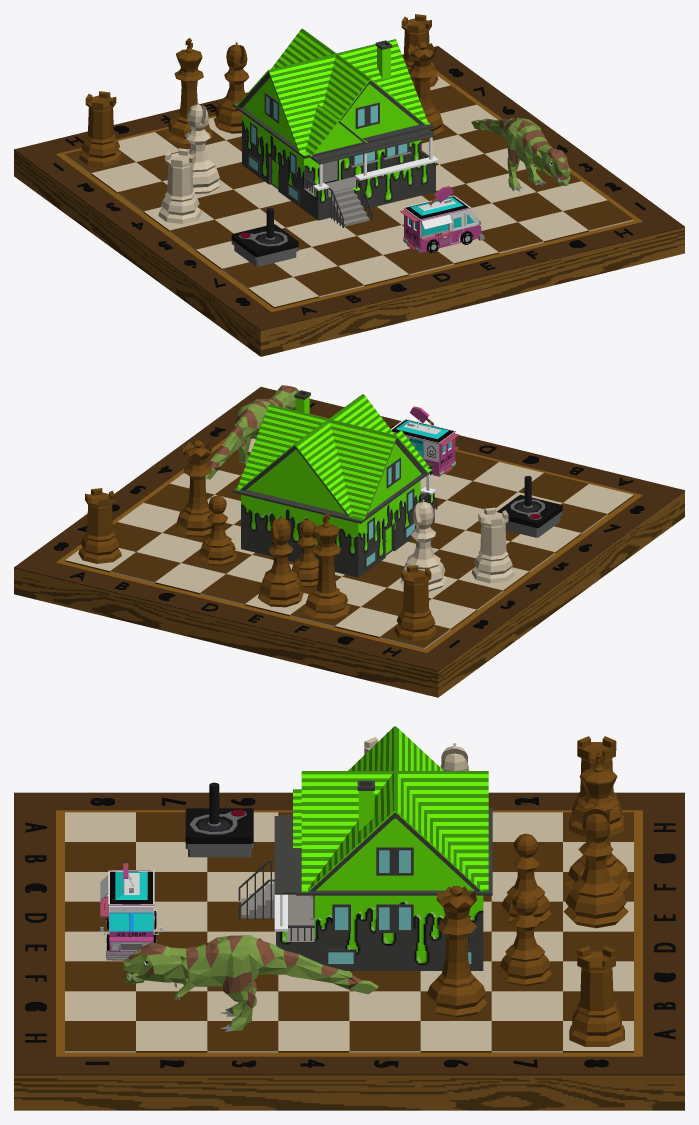
3 views of the same model, one above another, from view 1: azimuth 30°, elevation 25°; view 2: azimuth 150°, elevation 25°; view 3: azimuth 270°, elevation 25° (orthographic). The views are drawn at different scales.
Visible parts, largest first — view 1: Cube.002, Cube.754, VEHICLES_ICE_CREAM_TRUCK, ANIMAL_TREX, OBJRANDOM_JOYSTICK; view 2: Cube.002, Cube.754, ANIMAL_TREX, VEHICLES_ICE_CREAM_TRUCK, OBJRANDOM_JOYSTICK; view 3: Cube.002, Cube.754, ANIMAL_TREX, VEHICLES_ICE_CREAM_TRUCK, OBJRANDOM_JOYSTICK.
Part boxes in pixels (bbox=[...]): Cube.002: bbox=[14, 14, 684, 356]; Cube.754: bbox=[232, 28, 438, 227]; VEHICLES_ICE_CREAM_TRUCK: bbox=[400, 186, 485, 253]; ANIMAL_TREX: bbox=[471, 117, 570, 191]; OBJRANDOM_JOYSTICK: bbox=[231, 208, 298, 266]; Cube.002: bbox=[14, 387, 684, 697]; Cube.754: bbox=[232, 390, 437, 577]; ANIMAL_TREX: bbox=[205, 385, 298, 479]; VEHICLES_ICE_CREAM_TRUCK: bbox=[391, 406, 459, 476]; OBJRANDOM_JOYSTICK: bbox=[497, 476, 562, 537]; Cube.002: bbox=[14, 736, 684, 1110]; Cube.754: bbox=[238, 726, 492, 970]; ANIMAL_TREX: bbox=[122, 935, 377, 1031]; VEHICLES_ICE_CREAM_TRUCK: bbox=[100, 863, 162, 960]; OBJRANDOM_JOYSTICK: bbox=[185, 782, 253, 857].
Size of the model in its own units: 3981 by 1434 by 4012.
46 materials, 4 textured.
